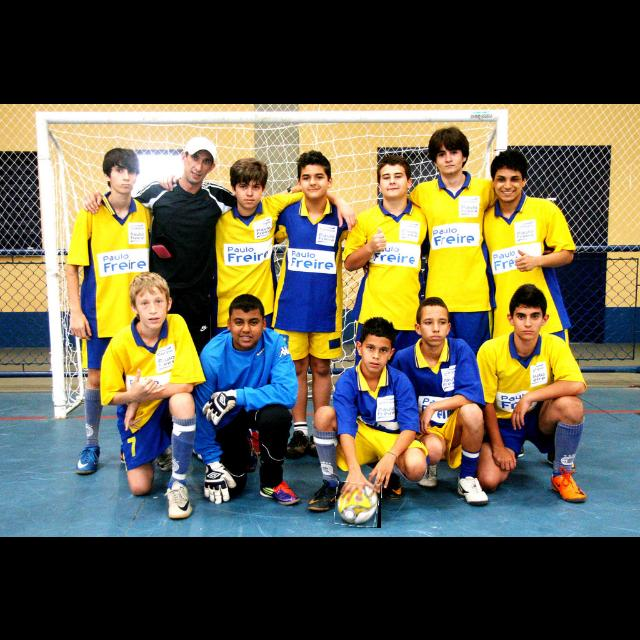Football: (335, 482, 381, 528)
